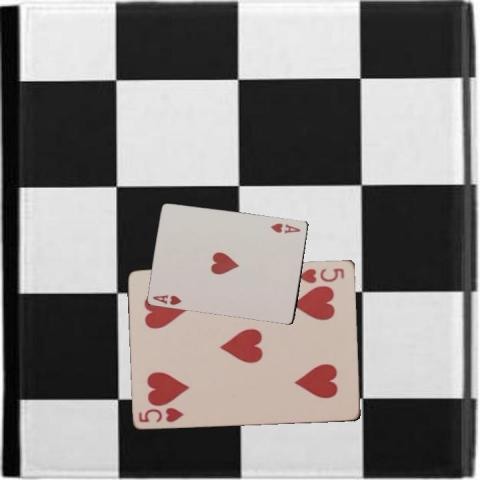5h: (295, 265, 346, 285), (136, 404, 185, 423)
Ah: (268, 220, 302, 235), (150, 291, 183, 306)
